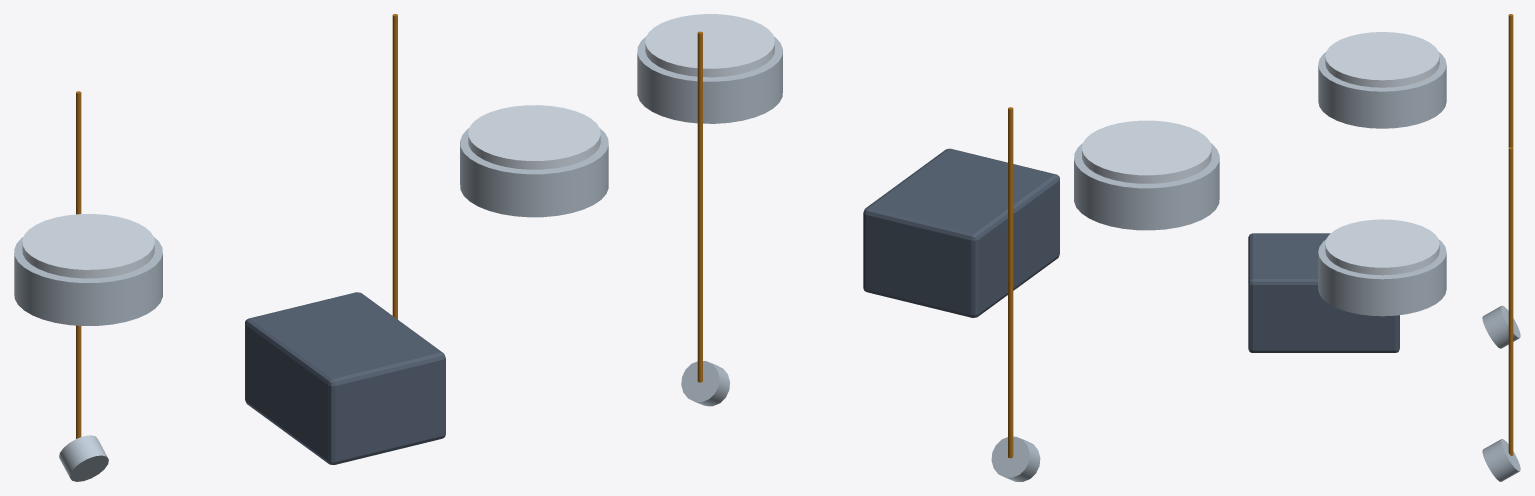
Rendered from Component_communications.glb.
The picture shows the model from 3 angles, left to right: view 1: azimuth 30°, elevation 25°; view 2: azimuth 150°, elevation 25°; view 3: azimuth 270°, elevation 25°; orthographic projection. The views are drawn at different scales.
Visible parts, largest first — view 1: TT_C_transceiver, Patch_antenna_mount.001, Patch_antenna_mount, Patch_antenna.001, Patch_antenna, Antenna_whip.001, Antenna_grounding_base, Antenna_whip; view 2: TT_C_transceiver, Patch_antenna_mount, Patch_antenna_mount.001, Patch_antenna, Patch_antenna.001, Antenna_whip.001, Antenna_whip, Antenna_grounding_base, Antenna_grounding_base.001; view 3: TT_C_transceiver, Patch_antenna_mount, Patch_antenna_mount.001, Patch_antenna, Patch_antenna.001, Antenna_whip.001, Antenna_grounding_base.001, Antenna_grounding_base, Antenna_whip.
Boxes of the visible parts, x1,y1,x2,y2 form: TT_C_transceiver: (245, 292, 445, 464); Patch_antenna_mount.001: (460, 127, 608, 217); Patch_antenna_mount: (14, 236, 162, 325); Patch_antenna.001: (468, 105, 600, 169); Patch_antenna: (22, 214, 154, 278); Antenna_whip.001: (392, 14, 397, 319); Antenna_grounding_base: (59, 435, 108, 481); Antenna_whip: (76, 91, 81, 438); TT_C_transceiver: (863, 148, 1059, 317); Patch_antenna_mount: (1074, 143, 1219, 230); Patch_antenna_mount.001: (637, 36, 782, 123); Patch_antenna: (1082, 120, 1211, 183); Patch_antenna.001: (645, 14, 774, 77); Antenna_whip.001: (697, 31, 702, 382); Antenna_whip: (1008, 107, 1013, 458); Antenna_grounding_base: (991, 436, 1040, 481); Antenna_grounding_base.001: (681, 361, 729, 406); TT_C_transceiver: (1248, 233, 1399, 352); Patch_antenna_mount: (1318, 52, 1446, 128); Patch_antenna_mount.001: (1318, 239, 1446, 316); Patch_antenna: (1325, 32, 1439, 87); Patch_antenna.001: (1325, 219, 1439, 275); Antenna_whip.001: (1508, 147, 1513, 455); Antenna_grounding_base.001: (1482, 439, 1520, 481); Antenna_grounding_base: (1482, 305, 1520, 348); Antenna_whip: (1508, 14, 1513, 147).
Bounding box in the file's own units: 0.98 × 0.6271 × 0.467.
